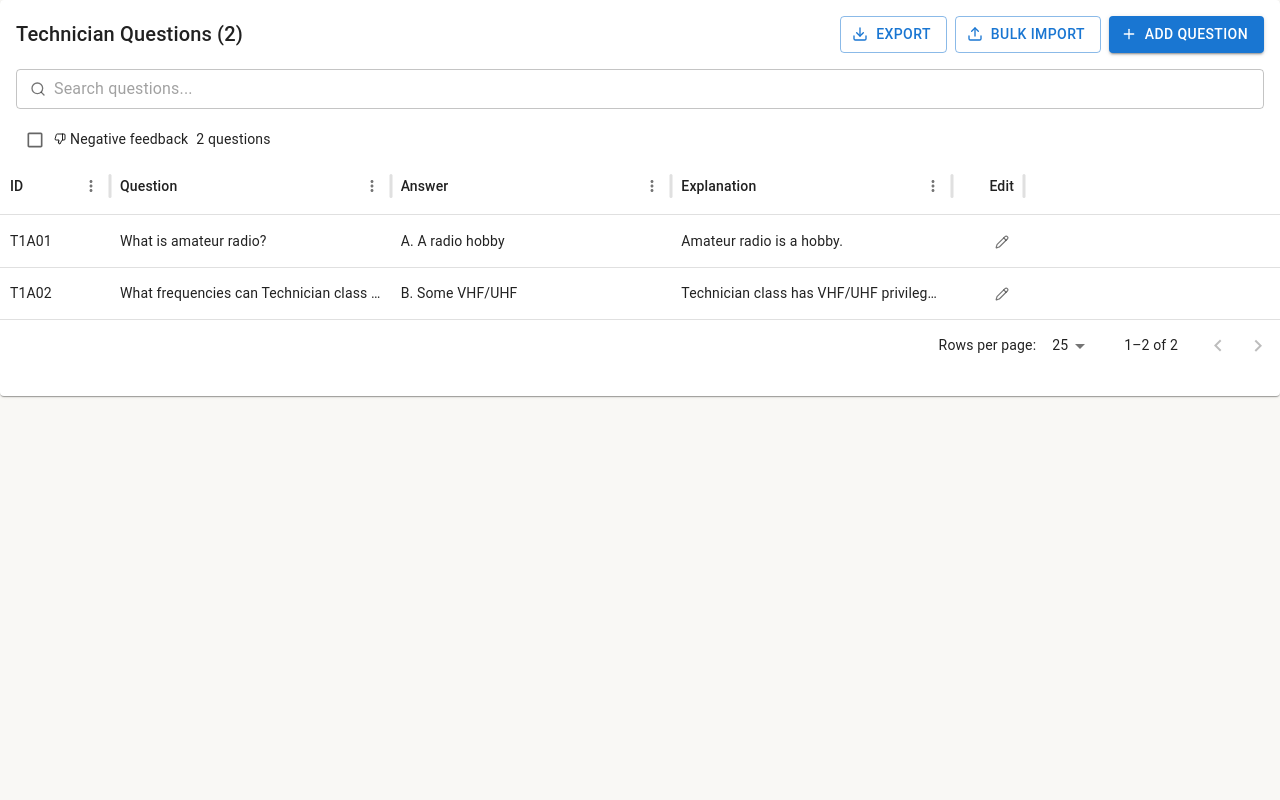
AdminQuestions › Edit Question Dialog › should show linked topic names in badges
expect the text "T1A01" is shown: met, box [10,232,52,248]
Click the button named "Edit T1A01": x=1002, y=242 [990,230,1014,254]
(page scrolled)
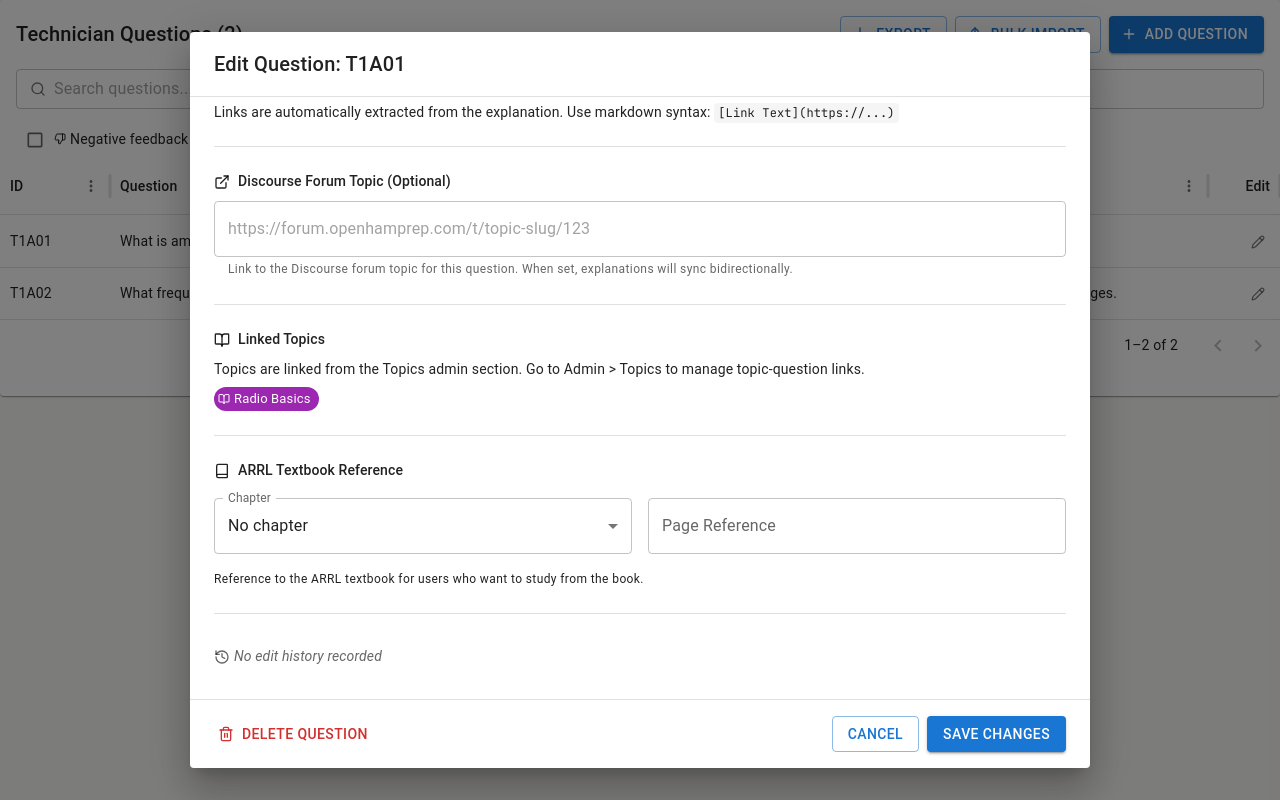
expect the text "Radio Basics" is shown: met, box [234,391,311,406]
